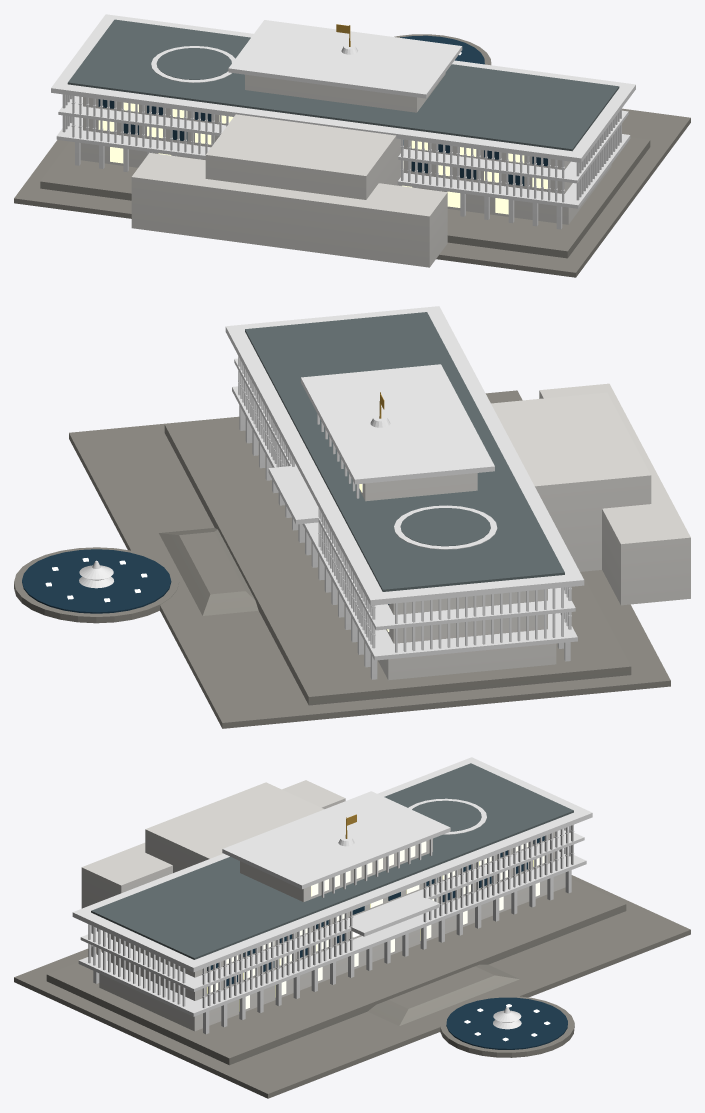
Rendered from dinh_doc_lap.glb.
The picture shows the model from 3 angles, top to bottom: view 1: azimuth 30°, elevation 25°; view 2: azimuth 150°, elevation 25°; view 3: azimuth 270°, elevation 25°; orthographic projection. The views are drawn at different scales.
Visible parts, largest first — view 1: dinh_doc_lap; view 2: dinh_doc_lap; view 3: dinh_doc_lap.
Boxes of the visible parts, <box> form: dinh_doc_lap: <box>14,14,690,277</box>; dinh_doc_lap: <box>14,306,690,728</box>; dinh_doc_lap: <box>14,757,690,1098</box>.
Size of the model in its own units: 113 by 26 by 115.
